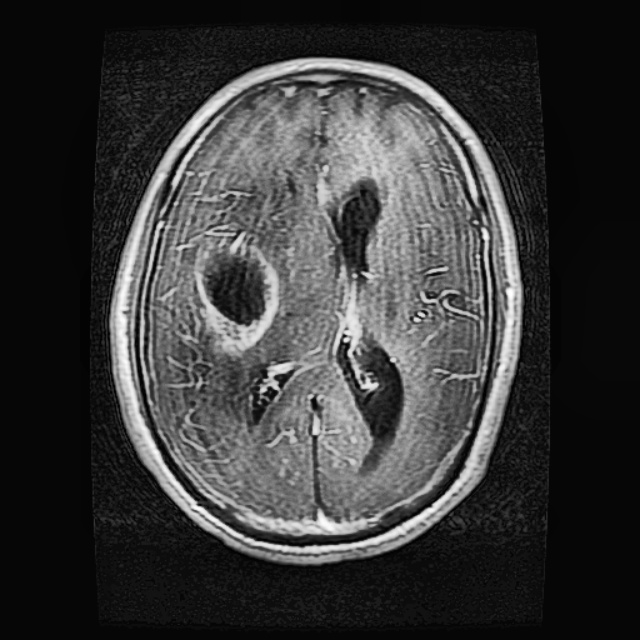Pituitary: (190, 232, 277, 357)
